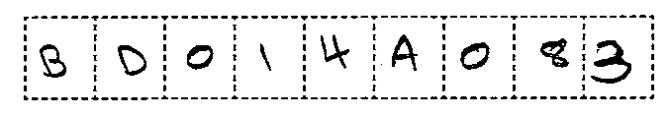0: (453, 36, 495, 76), (183, 37, 218, 79)
1: (246, 37, 284, 78)
3: (588, 37, 636, 89)
4: (315, 29, 355, 78)
8: (536, 36, 573, 74)
A: (384, 28, 425, 79)
B: (32, 38, 72, 85)
D: (110, 38, 151, 82)
